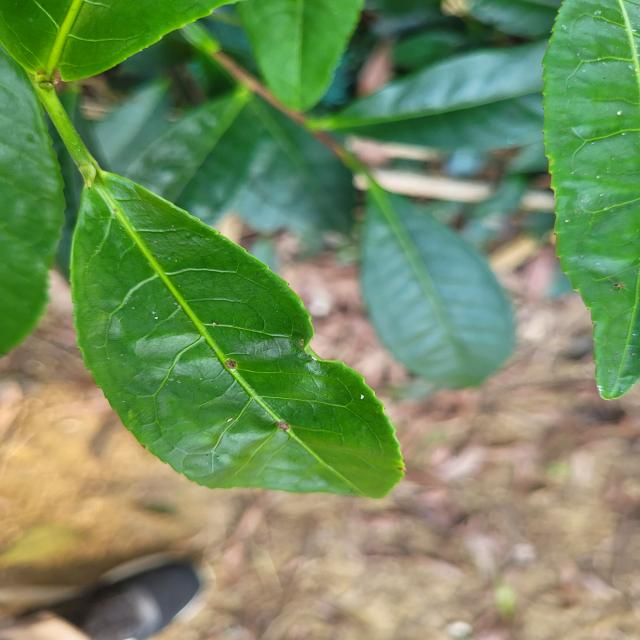Category D(7+ days, Not for Tea): (34, 121, 428, 526)
